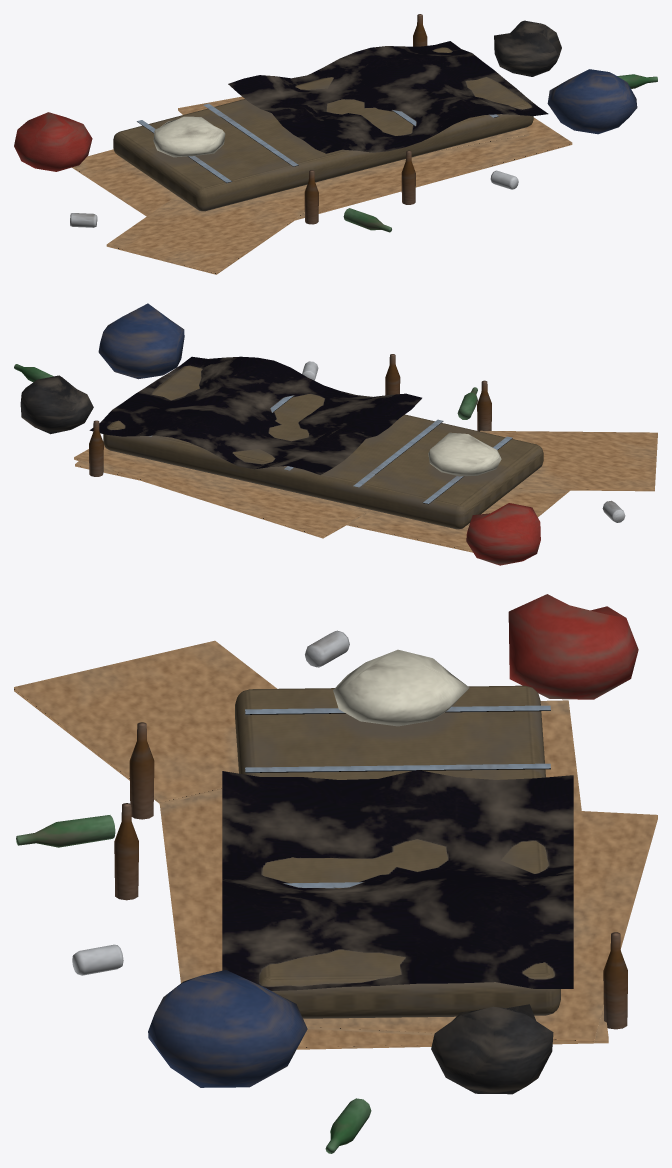
File: bezd_legowisko.glb
3 views of the same model, one above another, from view 1: azimuth 30°, elevation 25°; view 2: azimuth 150°, elevation 25°; view 3: azimuth 270°, elevation 25° (orthographic). The views are drawn at different scales.
Parts seen in each view (by area): view 1: Legowisko; view 2: Legowisko; view 3: Legowisko.
Part boxes in pixels (x1,y1,x2,y2): Legowisko: (14, 14, 657, 274); Legowisko: (14, 303, 657, 565); Legowisko: (14, 594, 657, 1153).
Bounding box in the file's own units: 3.17 × 0.2986 × 1.69.
Materials: 1 (1 with a texture image).
